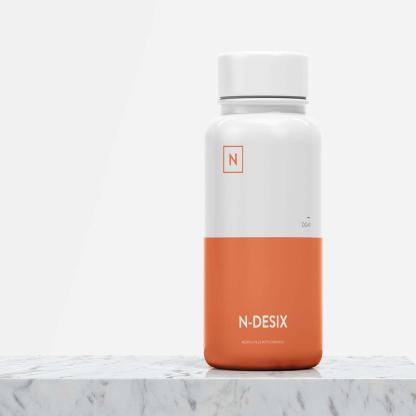jar: (202, 52, 323, 370)
